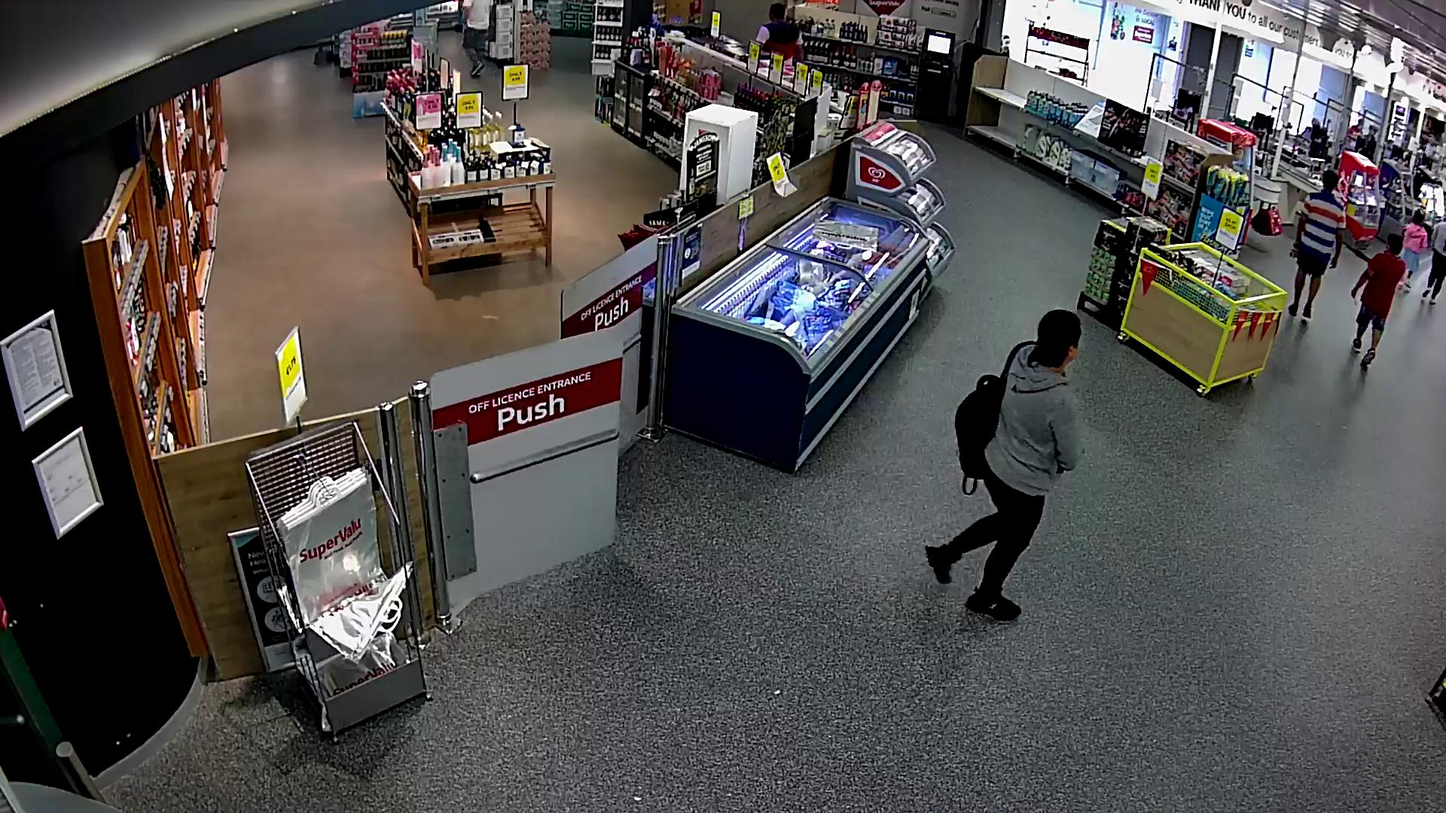backpack-or-handbag: (954, 374, 1009, 497)
person: (925, 310, 1088, 621)
person-with-backpack-handbag: (925, 308, 1083, 620)
